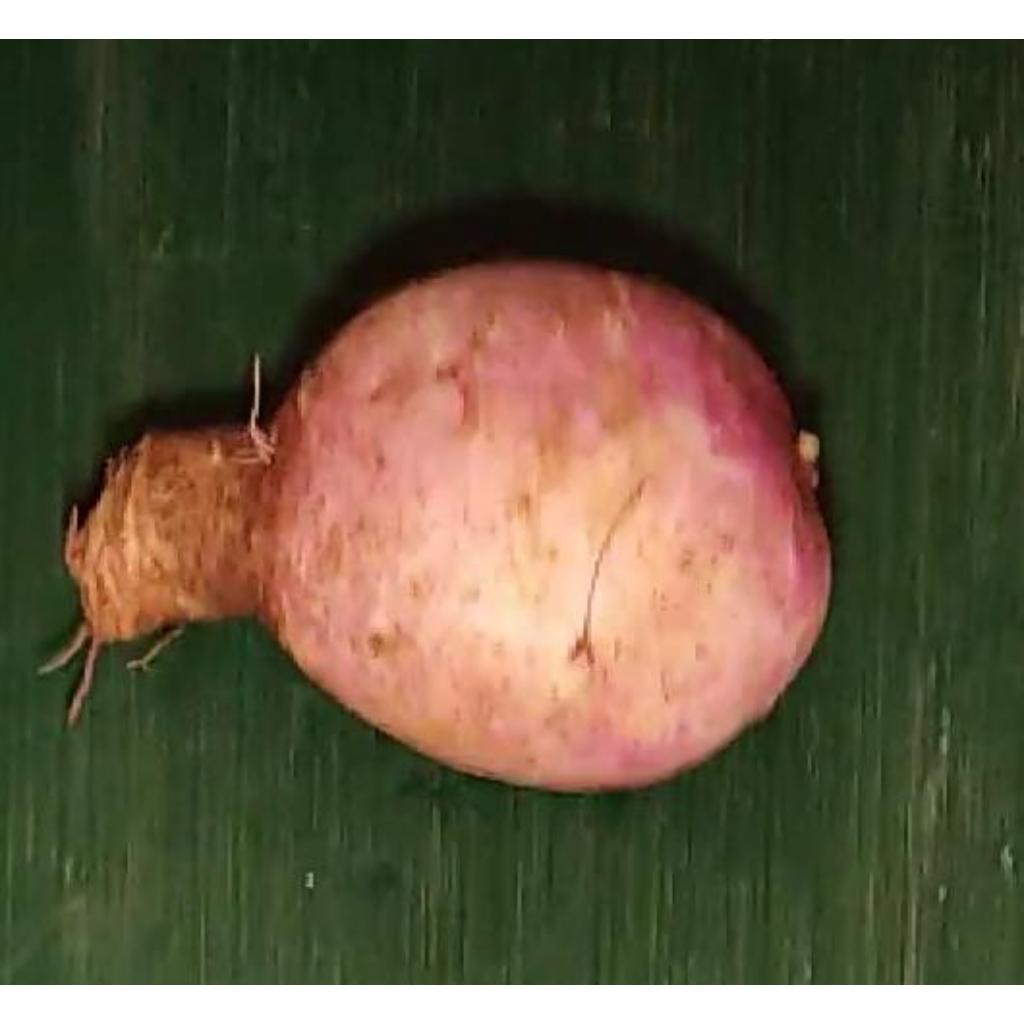Sweet Potato: (68, 259, 833, 798)
